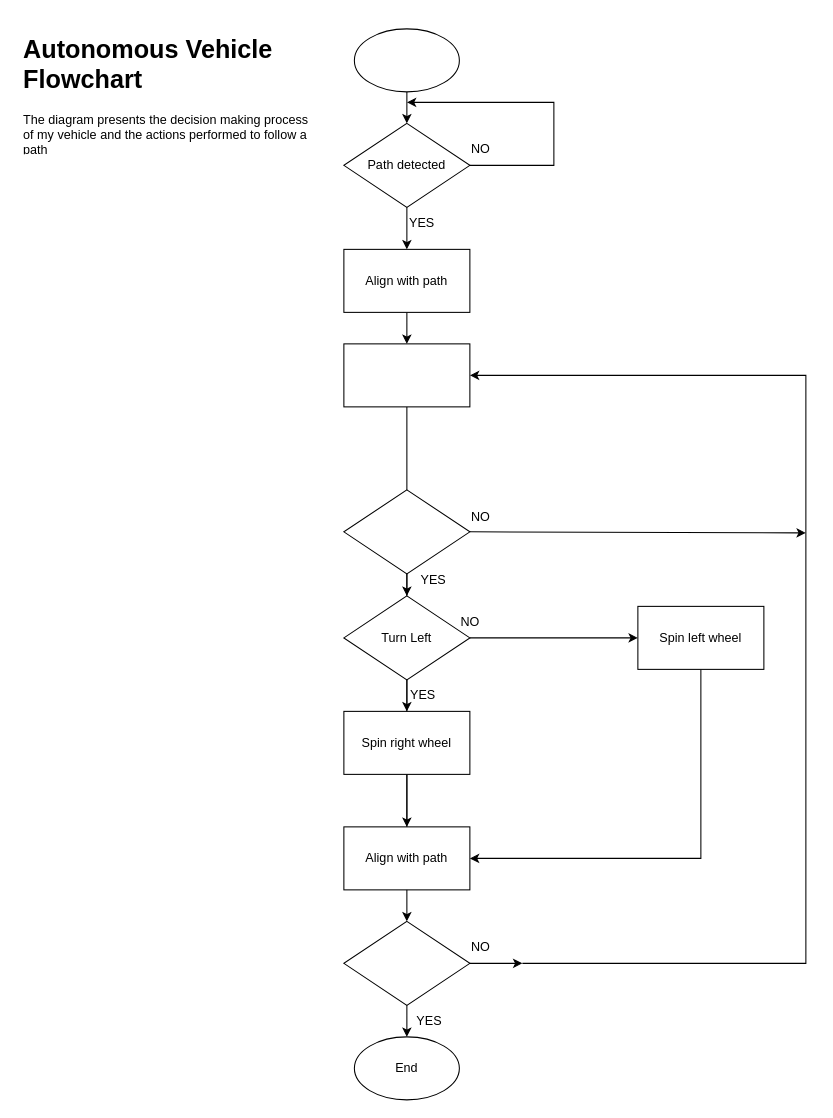
The diagram is 833 pixels wide and 1118 high, and some of its shapes have lost their labels. Each missing label, with the centre of its shape:
"Destination reached" belongs at (406,962).
"Move Forward" belongs at (406,375).
"Start" belongs at (406,60).
"Turn in path" belongs at (406,531).
